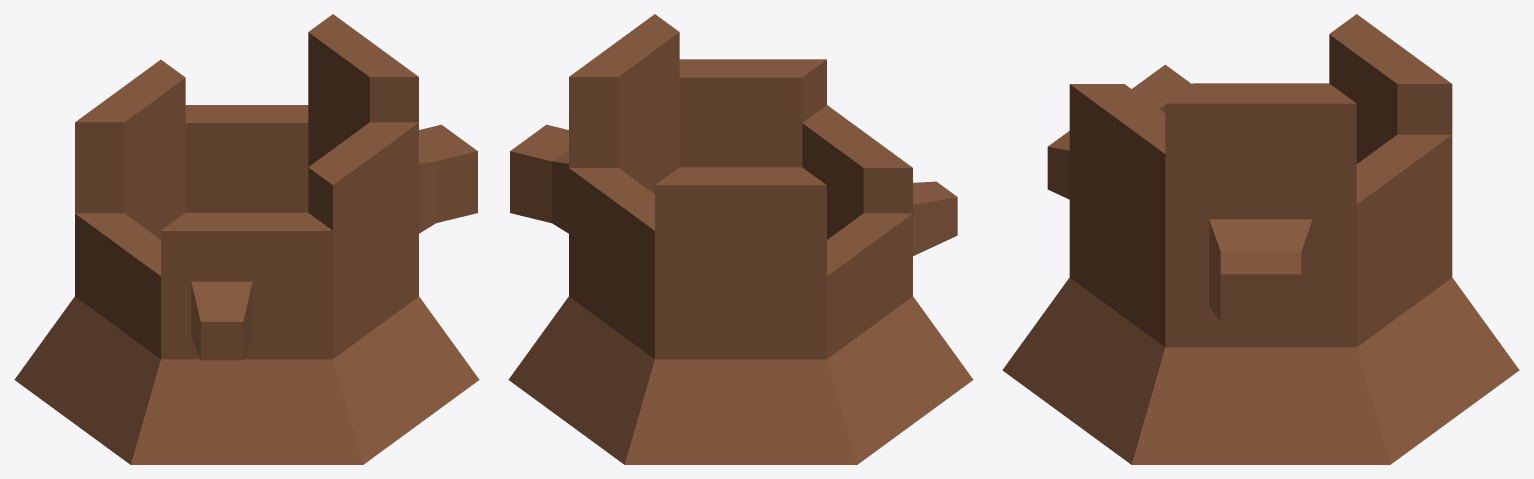
Rendered from stump_old.glb.
3 views of the same model, side by side, from view 1: azimuth 30°, elevation 25°; view 2: azimuth 150°, elevation 25°; view 3: azimuth 270°, elevation 25° (orthographic). The views are drawn at different scales.
Parts seen in each view (by area): view 1: stump_old; view 2: stump_old; view 3: stump_old.
Boxes of the visible parts, x1,y1,x2,y2 form: stump_old: (14, 14, 479, 464); stump_old: (508, 14, 973, 464); stump_old: (1002, 14, 1519, 464).
Bounding box in the file's own units: 0.6061 × 0.453 × 0.6307.
